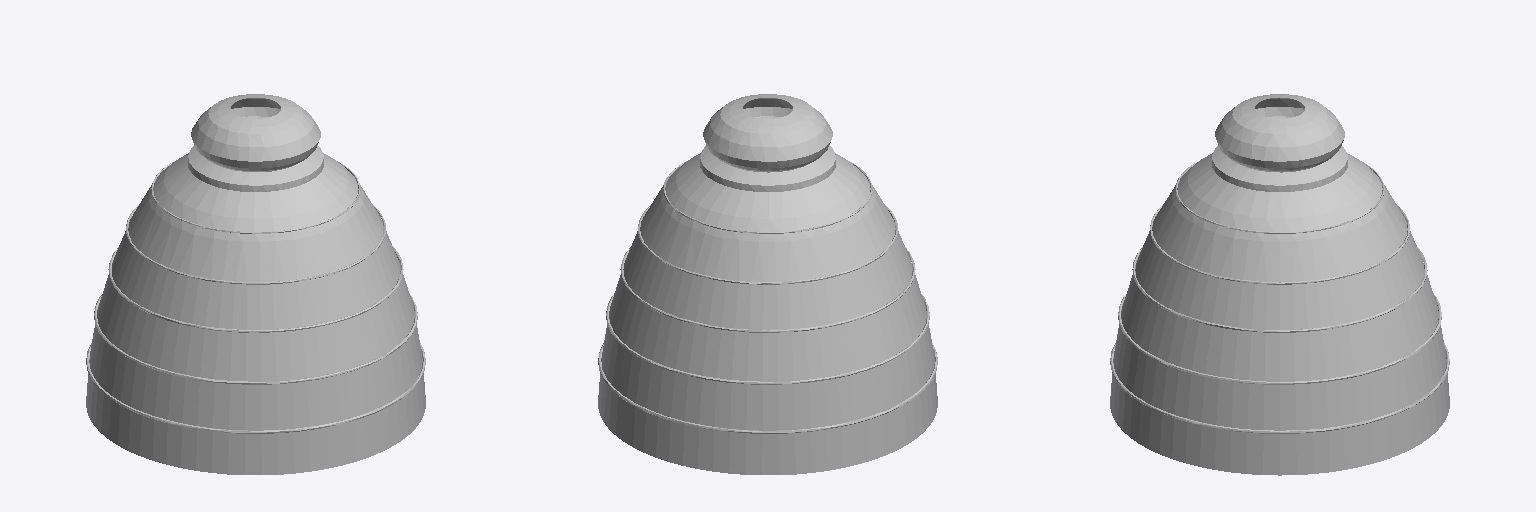
The model's file is engine_bottom_updated.obj.
3 renders of one model, left to right at view 1: azimuth 30°, elevation 25°; view 2: azimuth 150°, elevation 25°; view 3: azimuth 270°, elevation 25°, orthographic.
Parts seen in each view (by area): view 1: Cylinder; view 2: Cylinder; view 3: Cylinder.
Boxes of the visible parts, x1,y1,x2,y2 form: Cylinder: [86, 94, 425, 474]; Cylinder: [598, 94, 937, 474]; Cylinder: [1110, 94, 1449, 475].
Size of the model in its own units: 2 by 1.92 by 2.